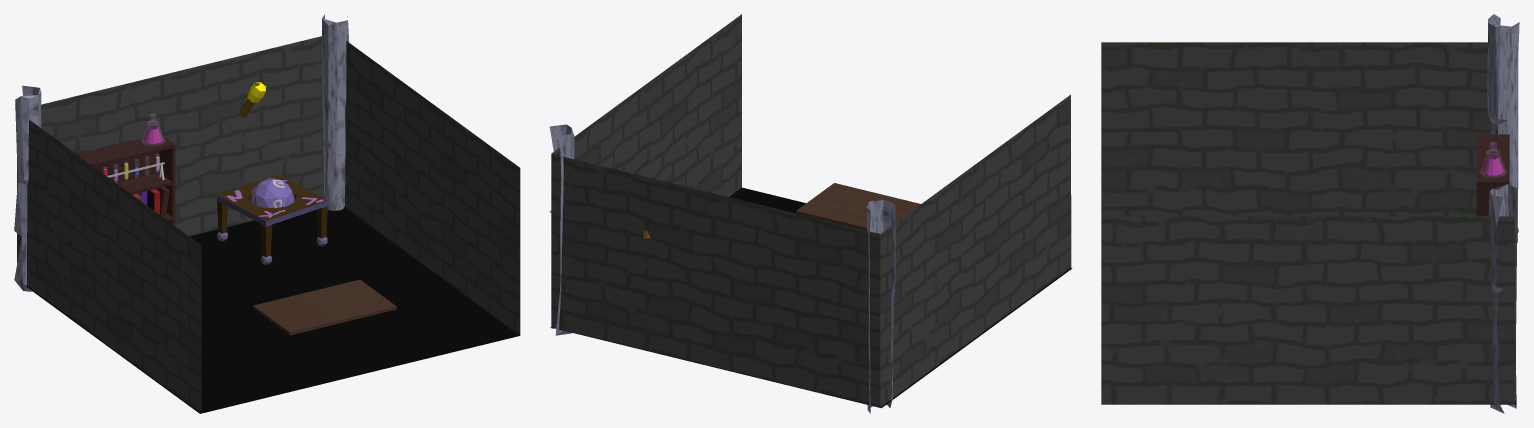
File: scaledungeon.glb
3 views of the same model, side by side, from view 1: azimuth 30°, elevation 25°; view 2: azimuth 150°, elevation 25°; view 3: azimuth 270°, elevation 25° (orthographic). The views are drawn at different scales.
Visible parts, largest first — view 1: Wall, Floor, Pillar, Table, Bookshelf, MagicTable, MagicBall; view 2: Wall, Pillar, Table, Floor; view 3: Wall, Pillar, Bookshelf, Floor.
Boxes of the visible parts, x1,y1,x2,y2 form: Wall: (17, 36, 520, 413); Floor: (25, 207, 519, 413); Pillar: (14, 14, 349, 291); Table: (253, 279, 396, 335); Bookshelf: (77, 134, 175, 225); MagicTable: (217, 174, 327, 264); MagicBall: (250, 178, 294, 208); Wall: (551, 14, 1071, 407); Pillar: (549, 124, 895, 413); Table: (796, 183, 920, 230); Floor: (550, 187, 1072, 408); Wall: (1101, 42, 1514, 404); Pillar: (1487, 14, 1519, 413); Bookshelf: (1476, 134, 1509, 216); Floor: (1101, 348, 1515, 404).
Bounding box in the file's own units: 6.24 × 3.57 × 6.05.
13 materials, 8 textured.
